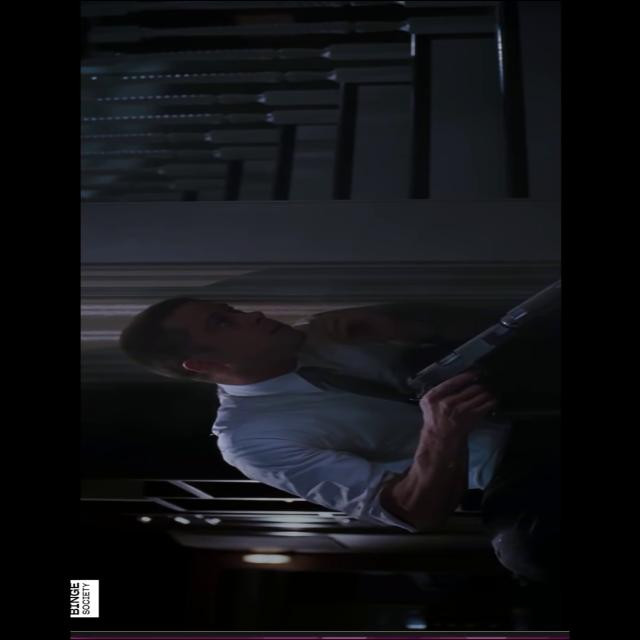weapons: (378, 272, 566, 414)
